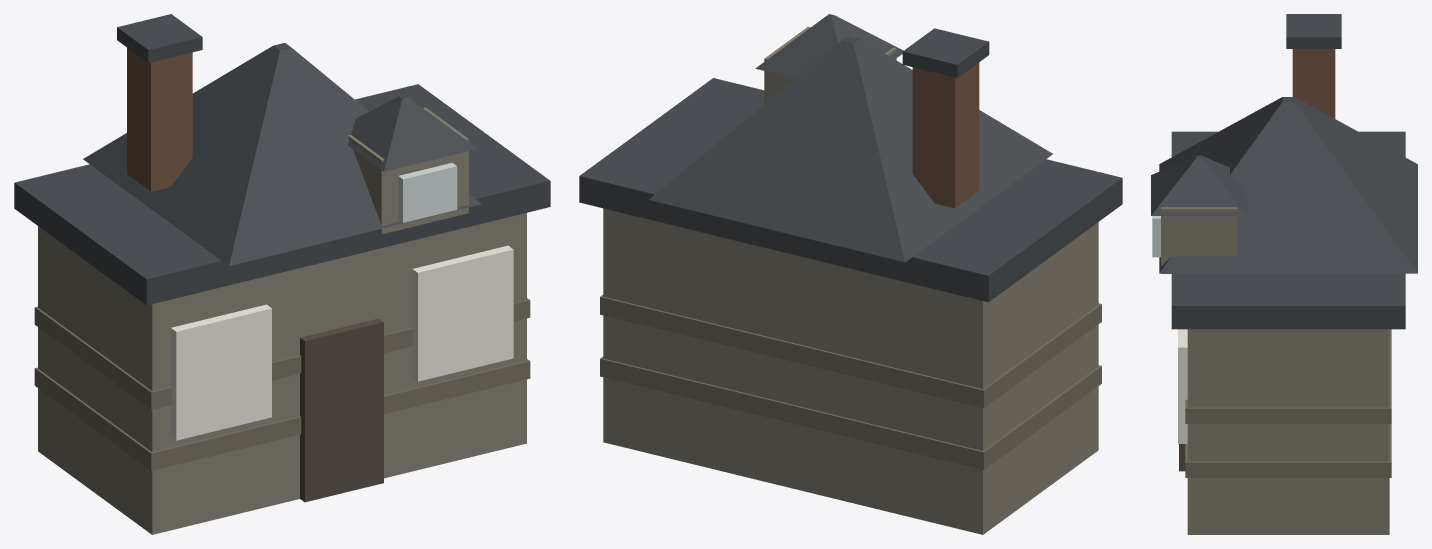
Rendered from loc_cc_shingle.glb.
3 views of the same model, side by side, from view 1: azimuth 30°, elevation 25°; view 2: azimuth 150°, elevation 25°; view 3: azimuth 270°, elevation 25° (orthographic). The views are drawn at different scales.
Parts seen in each view (by area): view 1: walls, Cone, eaves, door, win_trim_1, win_trim_0, chimney, weather_line_low, Cone.001, weather_line, dormer, dormer_win (+1 smaller); view 2: walls, Cone, eaves, weather_line, weather_line_low, chimney, Cone.001, chimney_cap, dormer; view 3: walls, Cone, eaves, Cone.001, weather_line, weather_line_low, dormer, chimney, chimney_cap, win_trim_1, dormer_win.
Boxes of the visible parts, x1,y1,x2,y2 form: walls: (38, 213, 526, 534); Cone: (83, 43, 481, 265); eaves: (14, 84, 550, 305); door: (300, 318, 383, 502); win_trim_1: (412, 245, 513, 381); win_trim_0: (171, 304, 271, 440); chimney: (127, 48, 192, 191); weather_line_low: (34, 359, 530, 470); Cone.001: (348, 95, 477, 171); weather_line: (34, 298, 530, 409); dormer: (348, 107, 468, 234); dormer_win: (398, 162, 457, 222); walls: (603, 208, 1098, 534); Cone: (649, 36, 1052, 262); eaves: (579, 78, 1122, 302); weather_line: (600, 295, 1101, 408); weather_line_low: (600, 356, 1101, 469); chimney: (912, 62, 979, 208); Cone.001: (755, 14, 903, 78); chimney_cap: (902, 28, 989, 77); dormer: (764, 26, 896, 104); walls: (1187, 329, 1389, 534); Cone: (1159, 97, 1417, 273); eaves: (1171, 131, 1405, 329); Cone.001: (1151, 155, 1247, 215); weather_line: (1185, 329, 1391, 423); weather_line_low: (1185, 424, 1391, 477); dormer: (1161, 207, 1237, 273); chimney: (1292, 49, 1335, 118); chimney_cap: (1286, 14, 1341, 48); win_trim_1: (1178, 329, 1187, 443); dormer_win: (1152, 216, 1160, 257).
Bounding box in the file's own units: 1.94 × 1.98 × 1.25.
